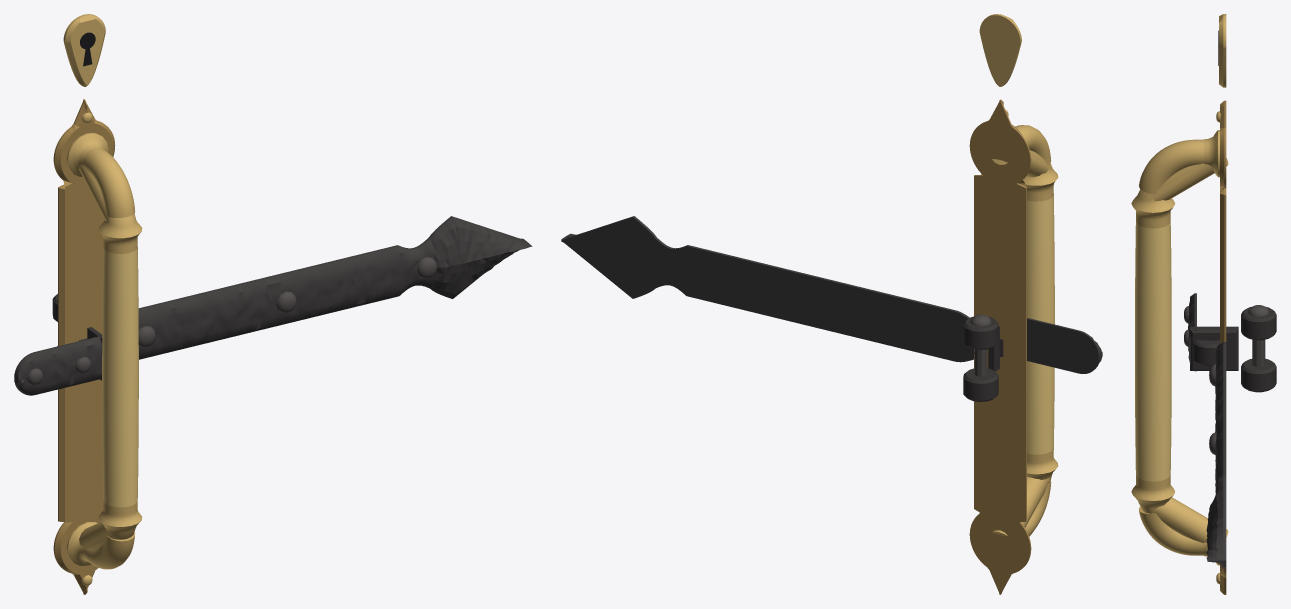
File: door_iron.glb
3 renders of one model, left to right at view 1: azimuth 30°, elevation 25°; view 2: azimuth 150°, elevation 25°; view 3: azimuth 270°, elevation 25°, orthographic.
Visible parts, largest first — view 1: Pull, Strap, Pintle; view 2: Pull, Strap, Pintle; view 3: Pull, Pintle, Strap.
Boxes of the visible parts, box(x1,y1,x2,y2) form: Pull: box(53, 14, 142, 594); Strap: box(79, 216, 532, 359); Pintle: box(14, 294, 102, 395); Pull: box(969, 14, 1058, 594); Strap: box(561, 216, 1003, 362); Pintle: box(963, 314, 1102, 401); Pull: box(1131, 14, 1228, 594); Pintle: box(1184, 293, 1276, 392); Strap: box(1193, 340, 1226, 567).
Size of the model in its own units: 0.3718 by 0.3935 by 0.0895.
